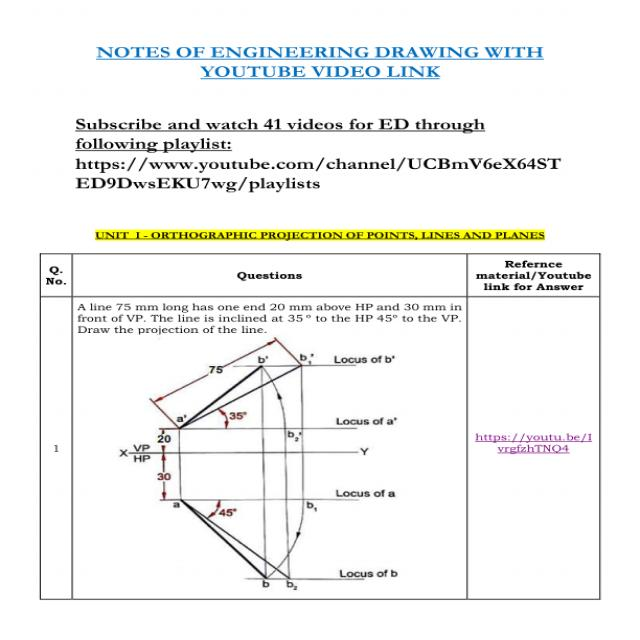Drawings: (107, 336, 410, 594)
